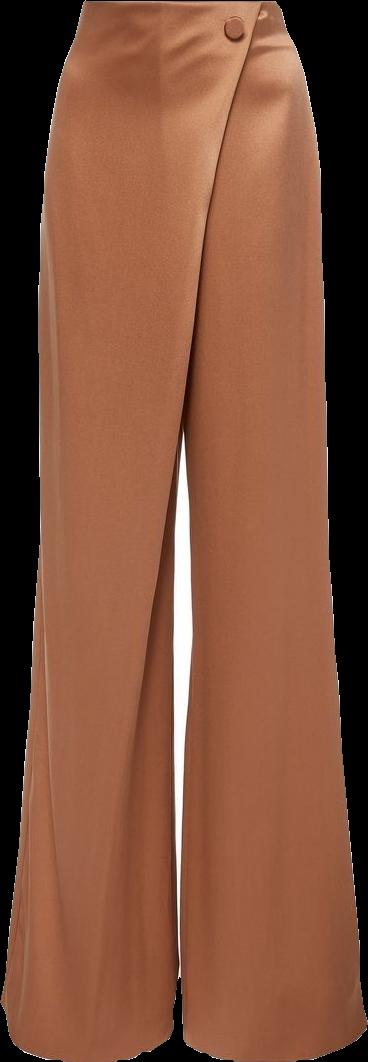Hemline: (0, 4, 292, 1060), (178, 1017, 367, 1061)
Pantleg: (1, 0, 269, 1061), (180, 0, 366, 1061)
Waistline: (80, 0, 279, 17)
